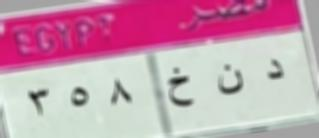3: (25, 83, 53, 120)
5: (65, 81, 94, 118)
8: (101, 76, 137, 113)
daal: (261, 55, 287, 84)
khaa: (165, 62, 198, 112)
noon: (210, 60, 248, 103)
